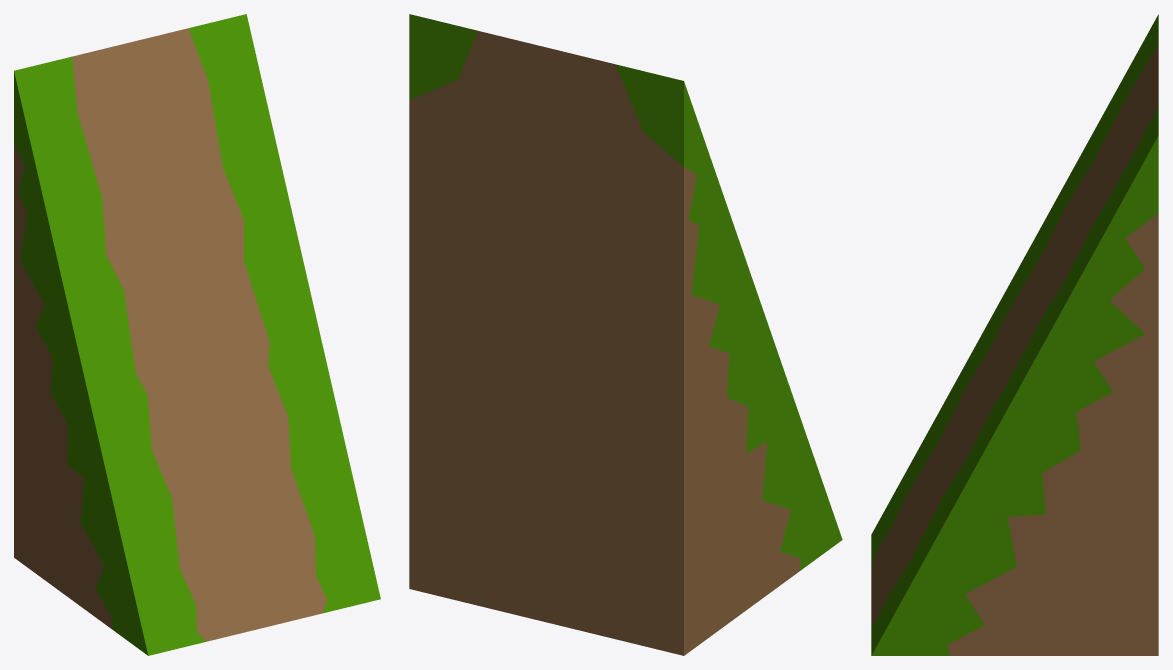
File: RPG_Tiles_Square_Covered_Path_Ramp_Double_01.FBX
3 renders of one model, left to right at view 1: azimuth 30°, elevation 25°; view 2: azimuth 150°, elevation 25°; view 3: azimuth 270°, elevation 25°, orthographic. The views are drawn at different scales.
Parts seen in each view (by area): view 1: RPG_Tiles_Square_Covered_Path_Ramp_Double_01; view 2: RPG_Tiles_Square_Covered_Path_Ramp_Double_01; view 3: RPG_Tiles_Square_Covered_Path_Ramp_Double_01.
Boxes of the visible parts, x1,y1,x2,y2 form: RPG_Tiles_Square_Covered_Path_Ramp_Double_01: (14, 14, 380, 655); RPG_Tiles_Square_Covered_Path_Ramp_Double_01: (409, 14, 842, 655); RPG_Tiles_Square_Covered_Path_Ramp_Double_01: (871, 14, 1158, 655).
Size of the model in its own units: 3000 by 6000 by 3000.
